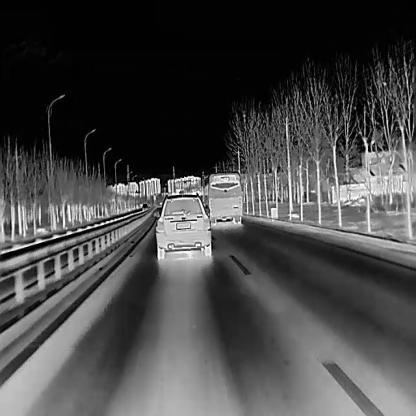car: (153, 191, 211, 258), (201, 170, 240, 223), (141, 203, 148, 211)
